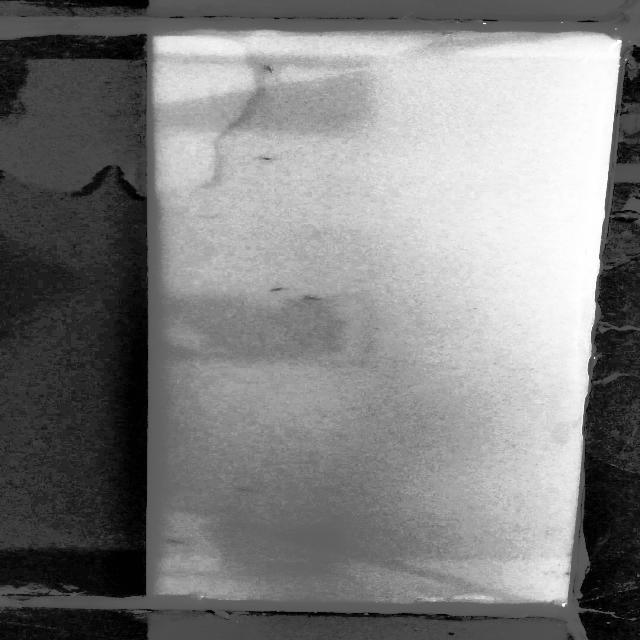shrimp: (161, 536, 188, 547), (267, 284, 296, 294), (300, 294, 332, 303), (254, 153, 280, 162), (264, 61, 280, 75), (229, 487, 258, 493)
